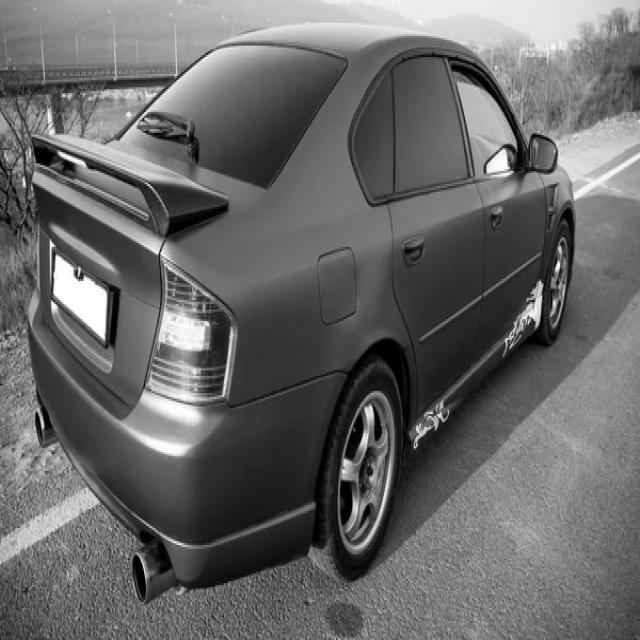Car: (28, 25, 577, 601)
